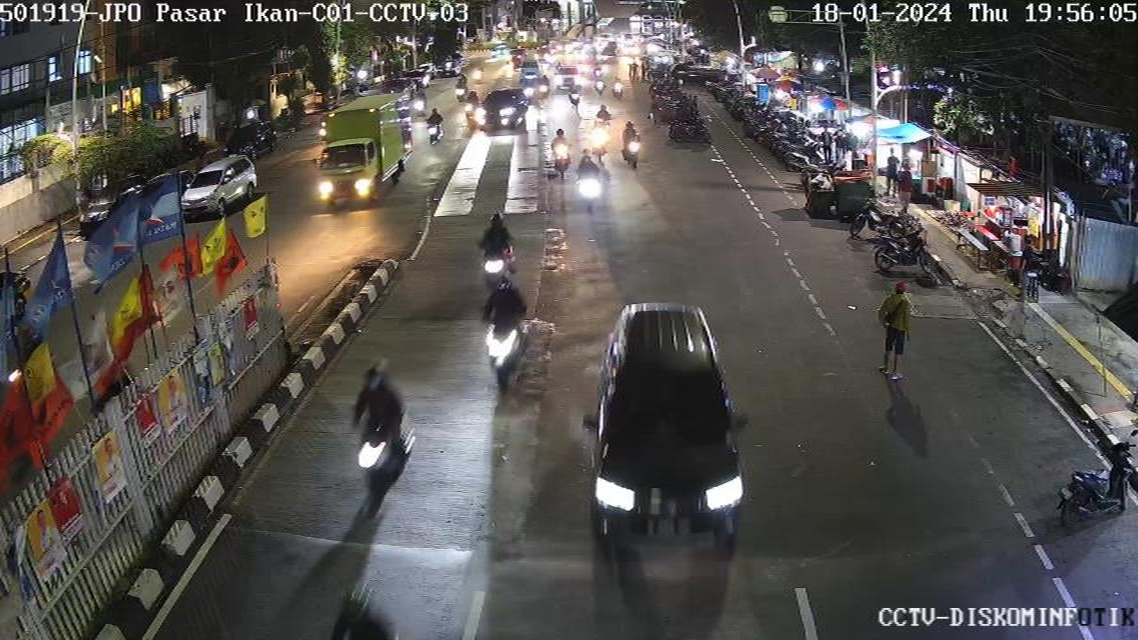Emperan: (948, 174, 1053, 264)
Payung: (809, 95, 859, 117), (745, 61, 788, 80), (777, 77, 809, 94)
Terpal: (877, 122, 951, 146)
